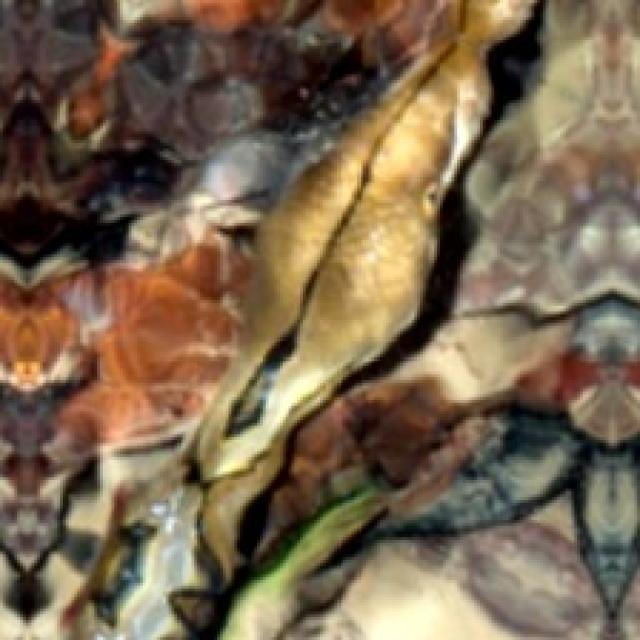reticulated python: (198, 0, 531, 482)
